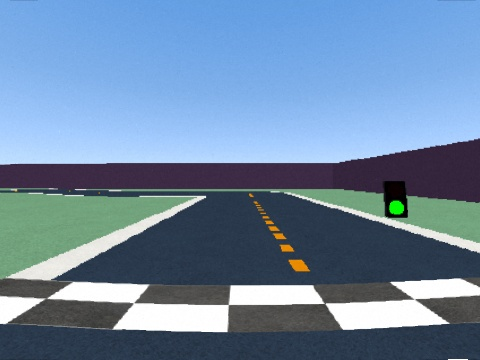green: (383, 181, 408, 218)
